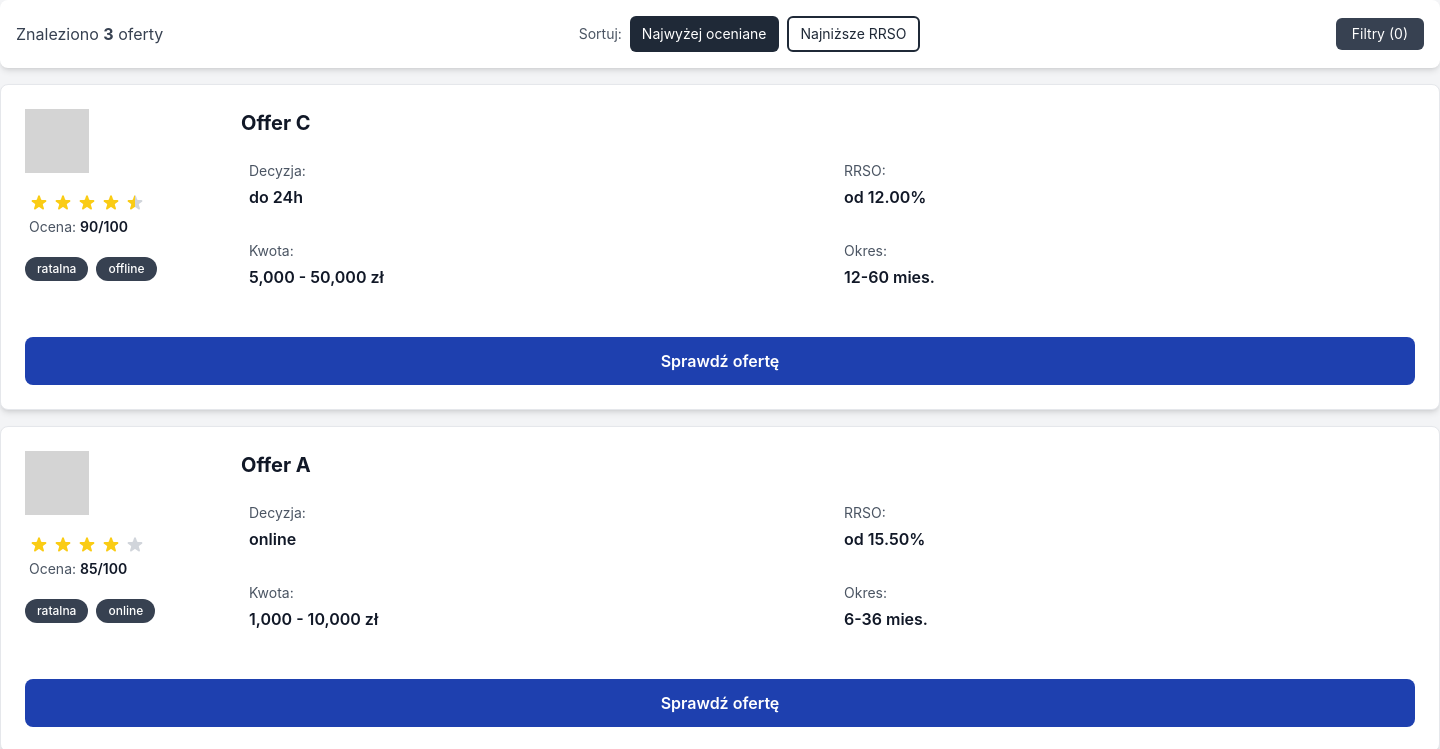
Test: OffersList › Tag Filtering › should render all available tags
Click the button "Filtry (0)": (1380, 34) [1336,18,1424,50]
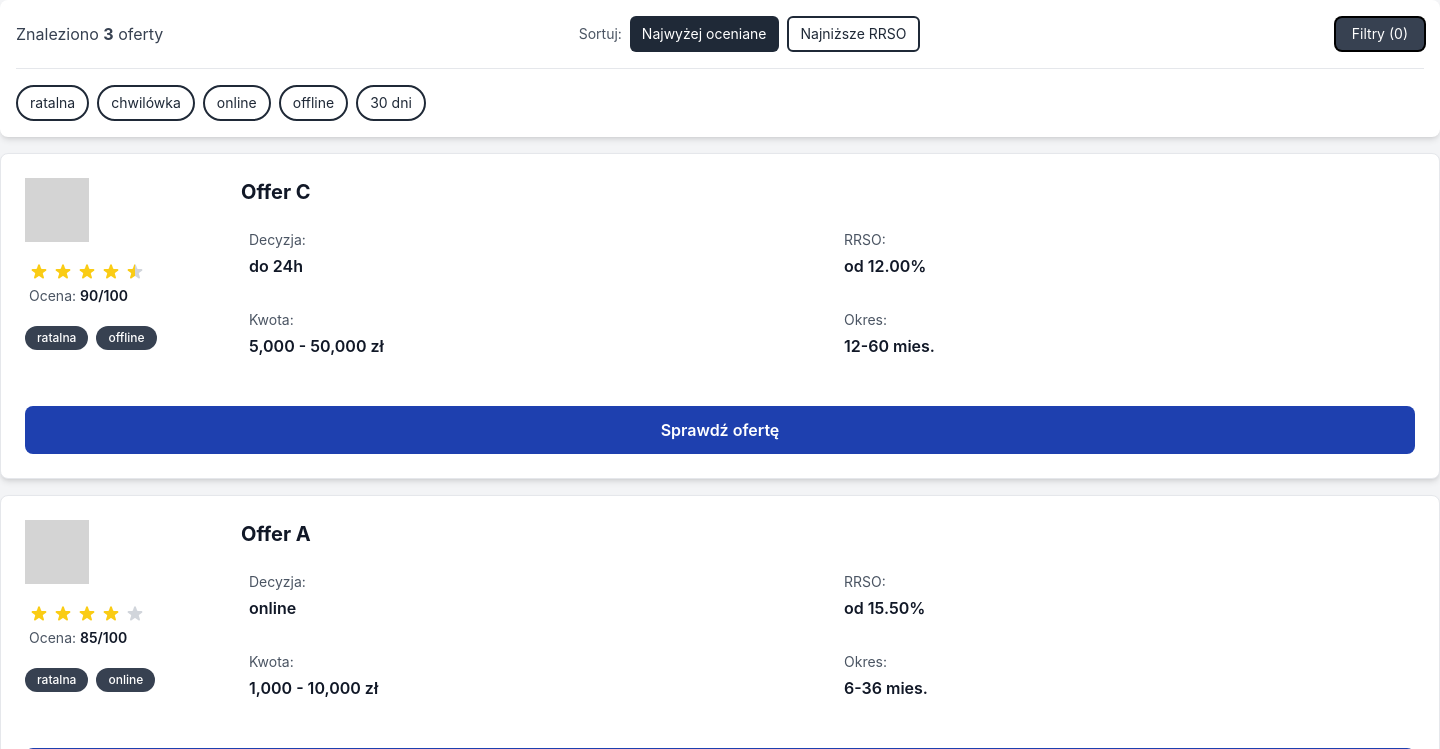
Check: the button "ratalna" is shown, box [16,85,89,121]
Check: the button "chwilówka" is shown, box [97,85,195,121]
Check: the button "online" is shown, box [203,85,271,121]
